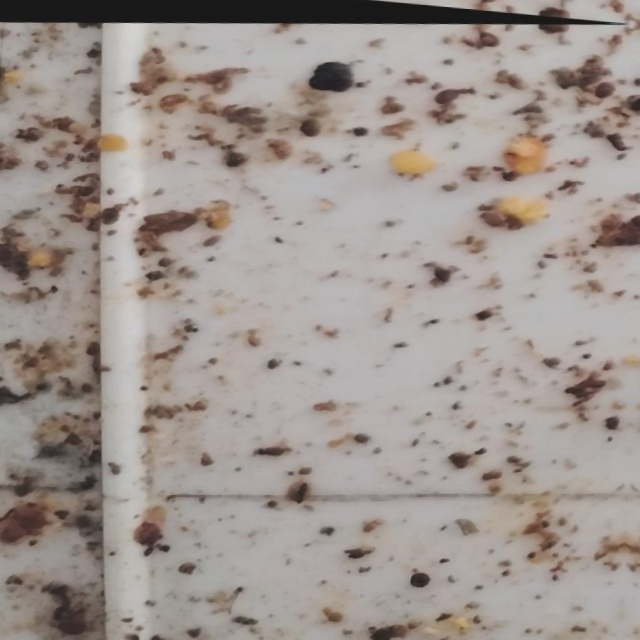varroa: (430, 83, 466, 107), (474, 28, 504, 49), (295, 114, 322, 137), (593, 78, 619, 101), (408, 568, 434, 588), (537, 23, 571, 38)
